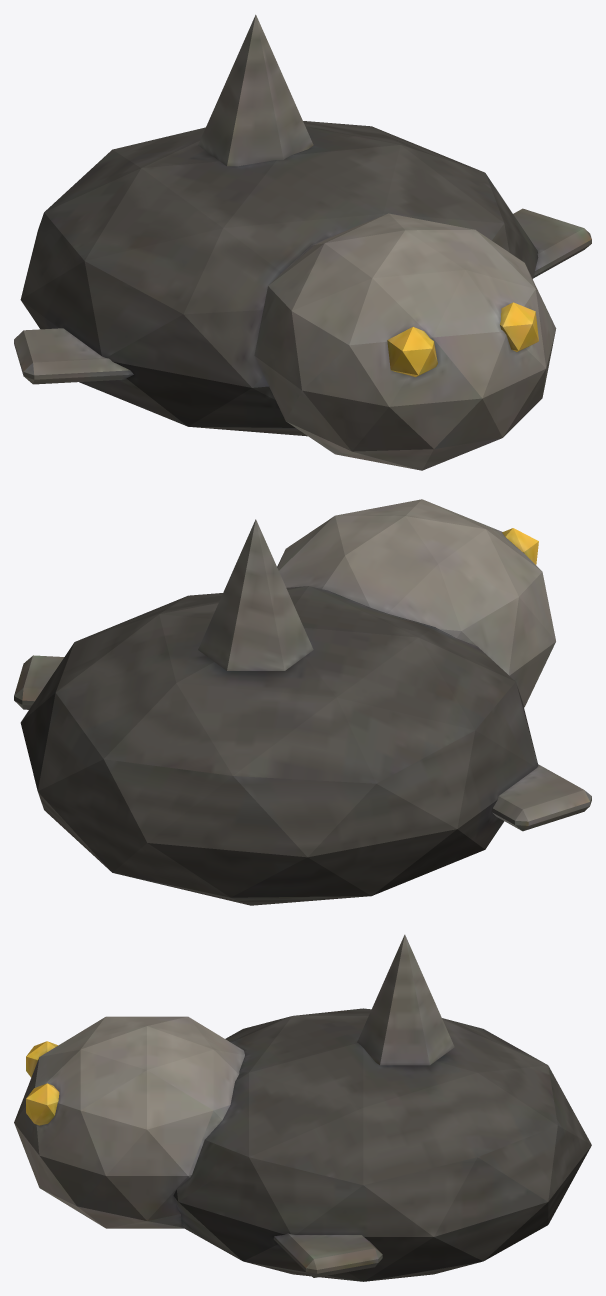
Rendered from night-beast.glb.
3 views of the same model, one above another, from view 1: azimuth 30°, elevation 25°; view 2: azimuth 150°, elevation 25°; view 3: azimuth 270°, elevation 25° (orthographic). The views are drawn at different scales.
Parts seen in each view (by area): view 1: night-beast; view 2: night-beast; view 3: night-beast.
Boxes of the visible parts, <box> form: night-beast: <box>14,14,591,470</box>; night-beast: <box>14,499,591,905</box>; night-beast: <box>14,934,591,1281</box>.
Size of the model in its own units: 1.36 by 0.835 by 1.39.
1 material, 1 textured.
